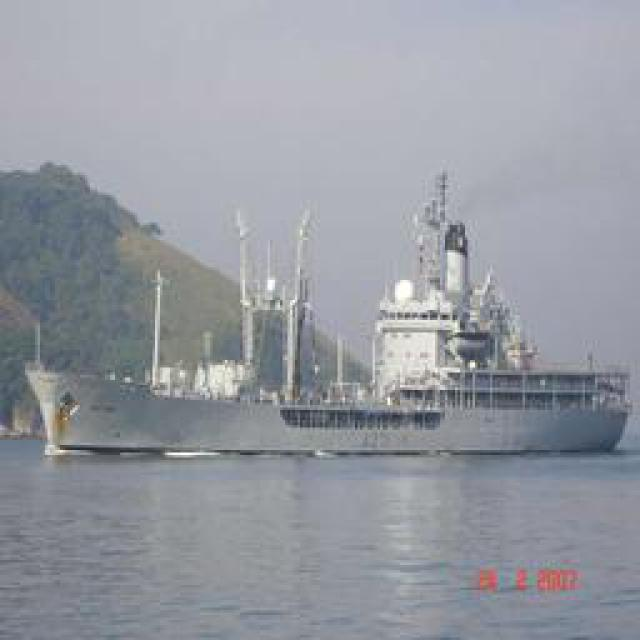Ship: (25, 187, 638, 467)
